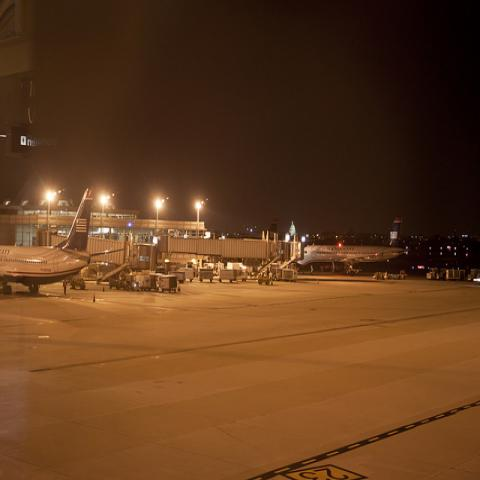truck: (219, 262, 247, 284), (169, 264, 194, 283), (159, 275, 177, 294), (134, 275, 150, 292), (426, 268, 445, 281)
